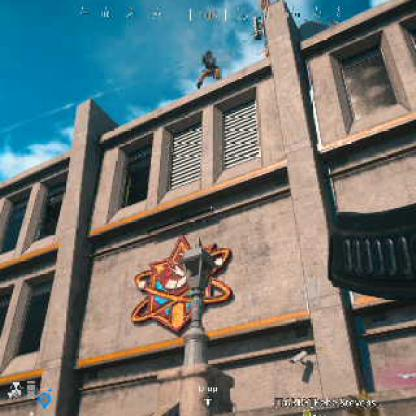enemy: (197, 49, 223, 87)
